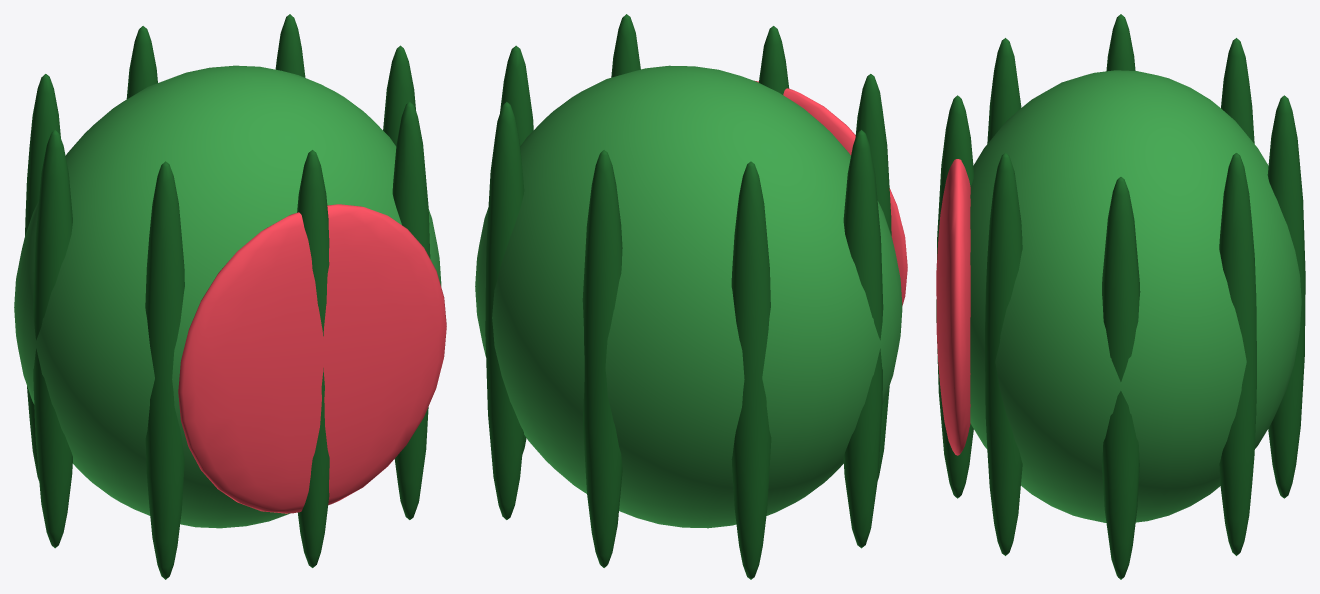
File: tb_mat_melon.glb
3 renders of one model, left to right at view 1: azimuth 30°, elevation 25°; view 2: azimuth 150°, elevation 25°; view 3: azimuth 270°, elevation 25°, orthographic. The views are drawn at different scales.
Visible parts, largest first — view 1: matkropp; view 2: matkropp; view 3: matkropp.
Part boxes in pixels (left/top/right/bottom): matkropp: left=14, top=14, right=446, bottom=579; matkropp: left=475, top=14, right=907, bottom=579; matkropp: left=936, top=14, right=1305, bottom=579.
Bounding box in the file's own units: 0.8 × 0.86 × 0.692.
